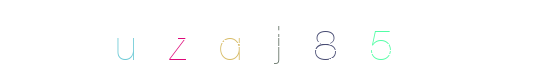5: (281, 0, 361, 80)
8: (257, 0, 337, 80)
A: (221, 0, 301, 80)
J: (230, 0, 310, 80)
U: (138, 0, 218, 80)
Z: (210, 0, 290, 80)
